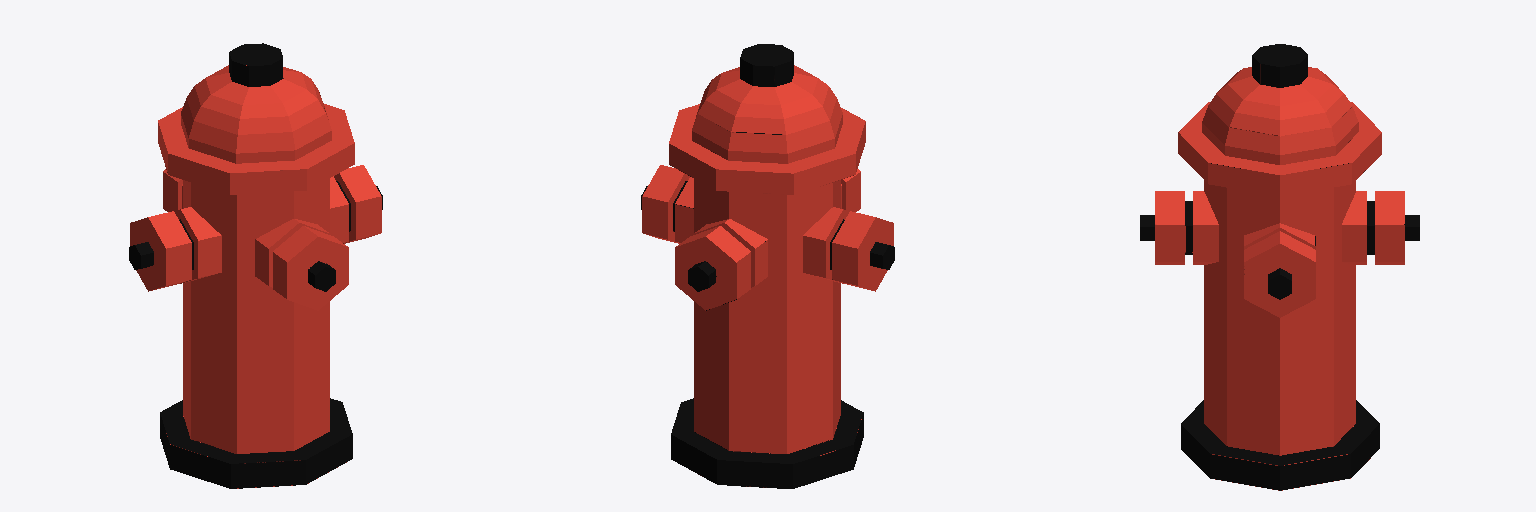
3 renders of one model, left to right at view 1: azimuth 30°, elevation 25°; view 2: azimuth 150°, elevation 25°; view 3: azimuth 270°, elevation 25°, orthographic.
Parts seen in each view (by area): view 1: Cylinder.006; view 2: Cylinder.006; view 3: Cylinder.006.
Part boxes in pixels (x1,y1,x2,y2): Cylinder.006: (129,43,382,488); Cylinder.006: (641,44,894,488); Cylinder.006: (1140,44,1419,490).
Bounding box in the file's own units: 1.46 × 2.31 × 1.46.
Materials: 1 (1 with a texture image).